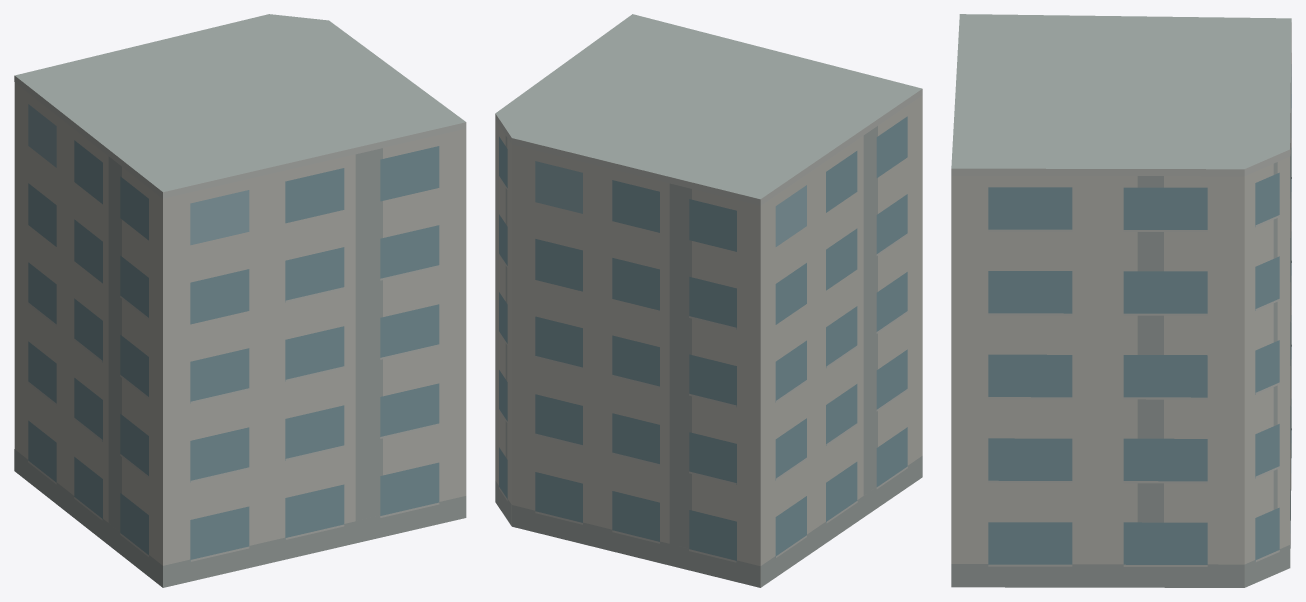
File: survey-upis-32781060.glb
The picture shows the model from 3 angles, left to right: view 1: azimuth 30°, elevation 25°; view 2: azimuth 150°, elevation 25°; view 3: azimuth 270°, elevation 25°; orthographic projection. The views are drawn at different scales.
Parts seen in each view (by area): view 1: survey-upis-32781060.tmp; view 2: survey-upis-32781060.tmp; view 3: survey-upis-32781060.tmp.
Part boxes in pixels (x1,y1,x2,y2): survey-upis-32781060.tmp: (14, 14, 466, 587); survey-upis-32781060.tmp: (495, 14, 922, 587); survey-upis-32781060.tmp: (951, 14, 1291, 587).
Size of the model in its own units: 11.54 by 14.5 by 10.69.
